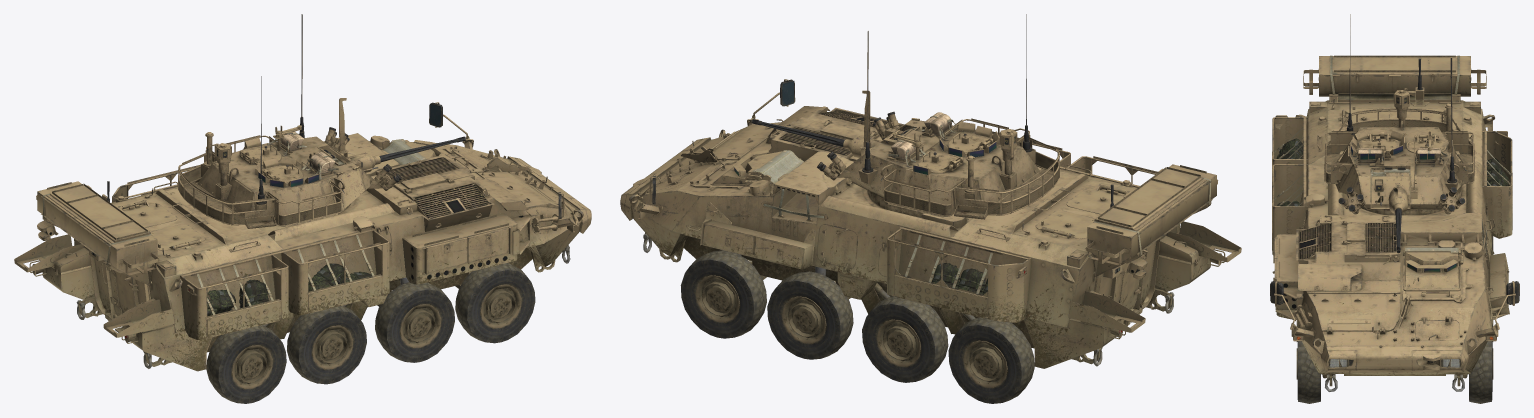
File: blindado-lav6.glb
3 renders of one model, left to right at view 1: azimuth 30°, elevation 25°; view 2: azimuth 150°, elevation 25°; view 3: azimuth 270°, elevation 25°, orthographic. The views are drawn at different scales.
Parts seen in each view (by area): view 1: LAV 6.0, LAV 6.001; view 2: LAV 6.0, LAV 6.001; view 3: LAV 6.0, LAV 6.001.
Boxes of the visible parts, x1,y1,x2,y2 form: LAV 6.0: [14, 102, 591, 403]; LAV 6.001: [178, 14, 465, 228]; LAV 6.0: [620, 79, 1241, 403]; LAV 6.001: [751, 14, 1059, 219]; LAV 6.0: [1270, 55, 1519, 403]; LAV 6.001: [1324, 14, 1474, 253].
Bounding box in the file's own units: 43.45 × 25.29 × 19.93.
4 materials, 4 textured.
